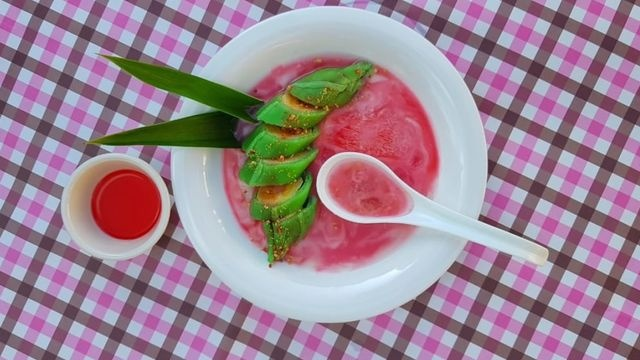es_pisang_ijo: (223, 49, 441, 270)
